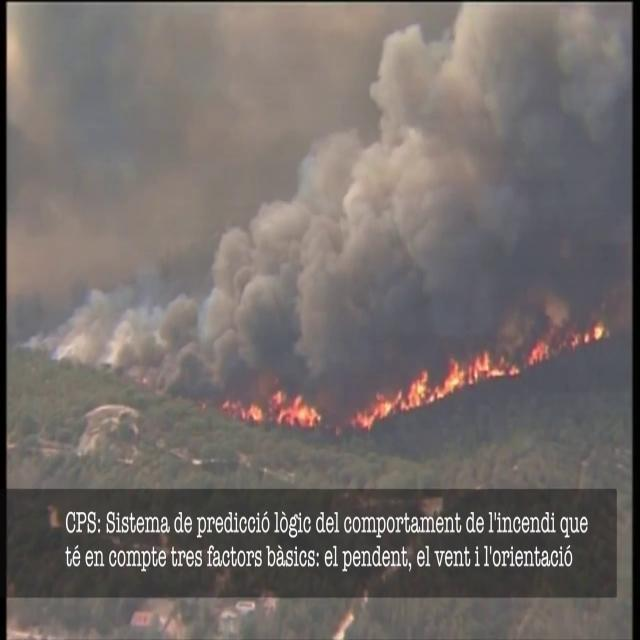Fire: (355, 348, 513, 418), (234, 378, 324, 434), (528, 301, 614, 359)
Smoke: (24, 2, 622, 430)
